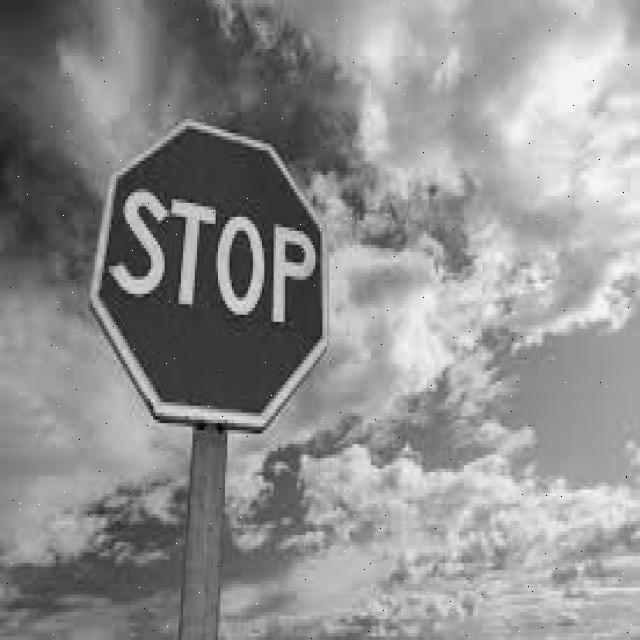stop sign: (99, 121, 332, 432)
